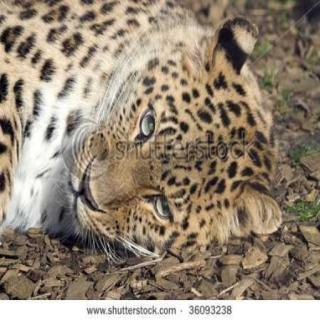Leopard: (18, 19, 298, 266)
